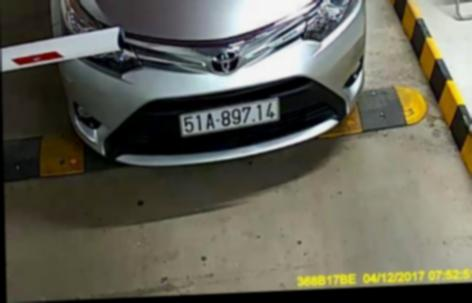License_Plate: (176, 99, 281, 140)
